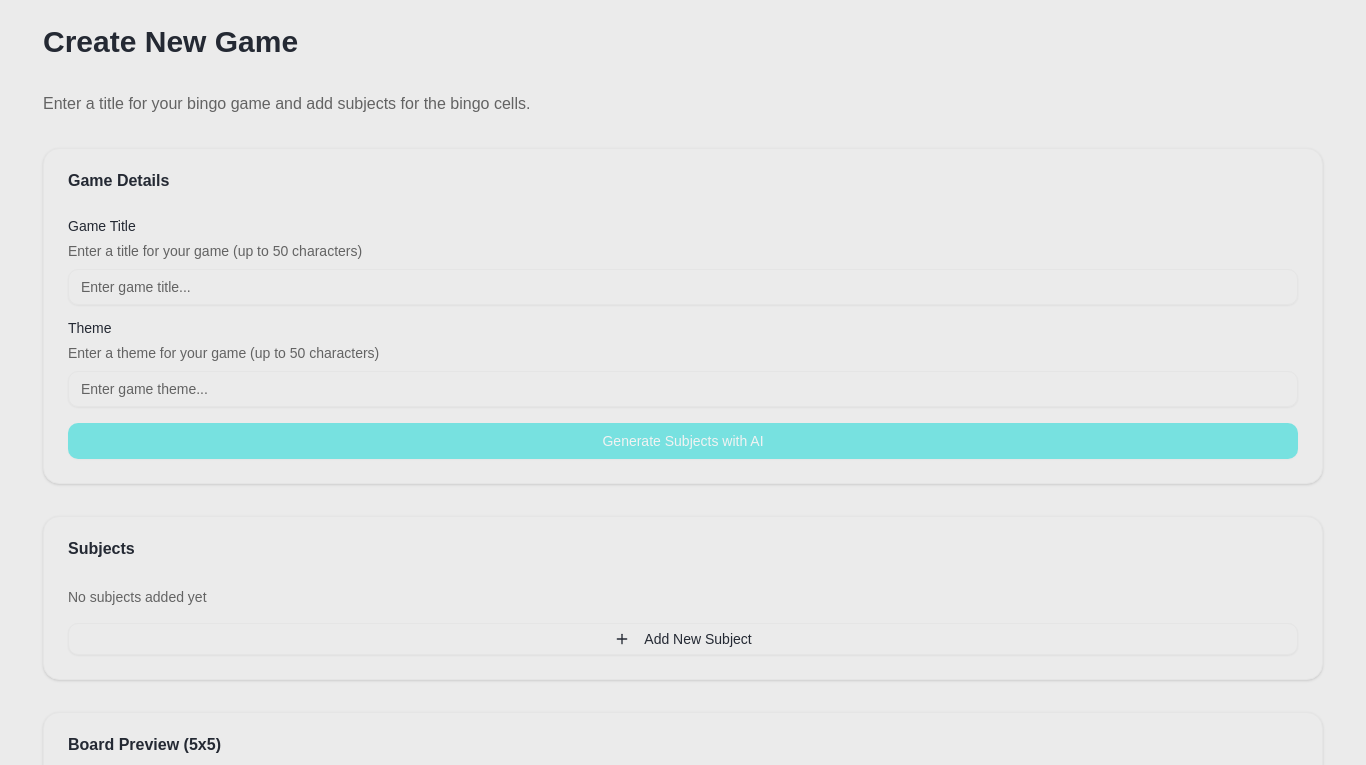
it: CreateGamePage › with English locale › validates title and theme on blur
This screenshot has width=1366, height=765.
Step 1. Type "This is a very long title that exceeds the maximum length of fifty characters" into the field labelled "Game Title" → (683,287), box [68,269,1298,305]
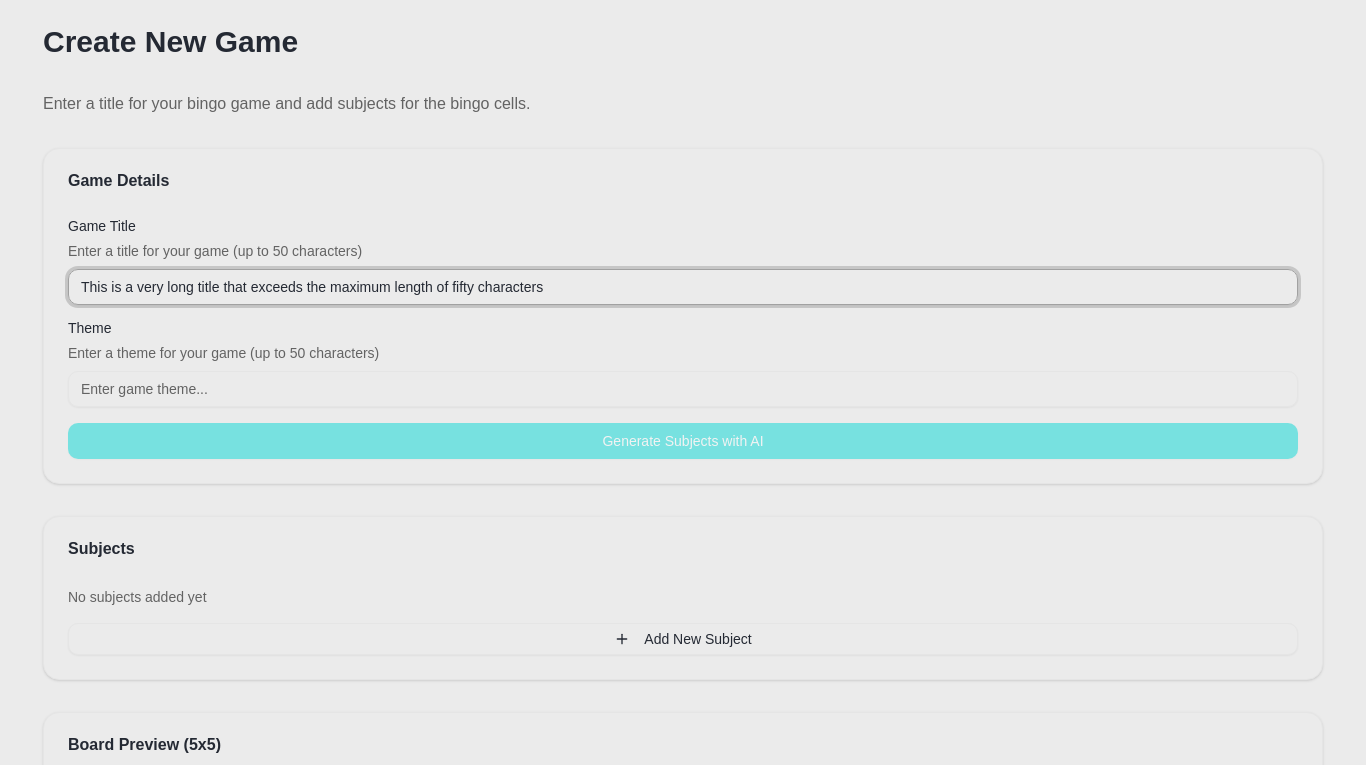
Step 2. Press Tab
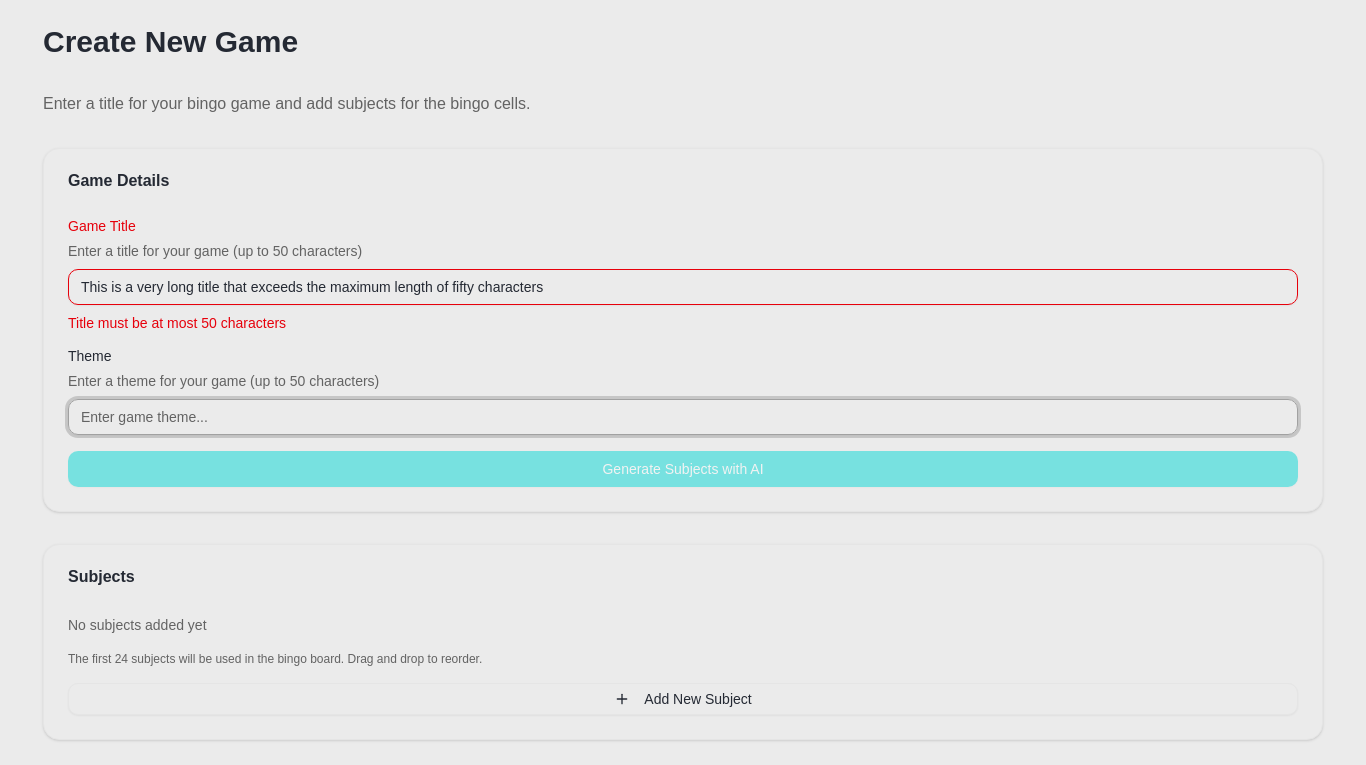
expect the text "Title must be at most 50 characters" is shown: met, box [68,315,286,331]
Step 3. Type "This is a very long theme that exceeds the maximum length of fifty characters" into the field labelled "Theme" → (683,417), box [68,399,1298,435]
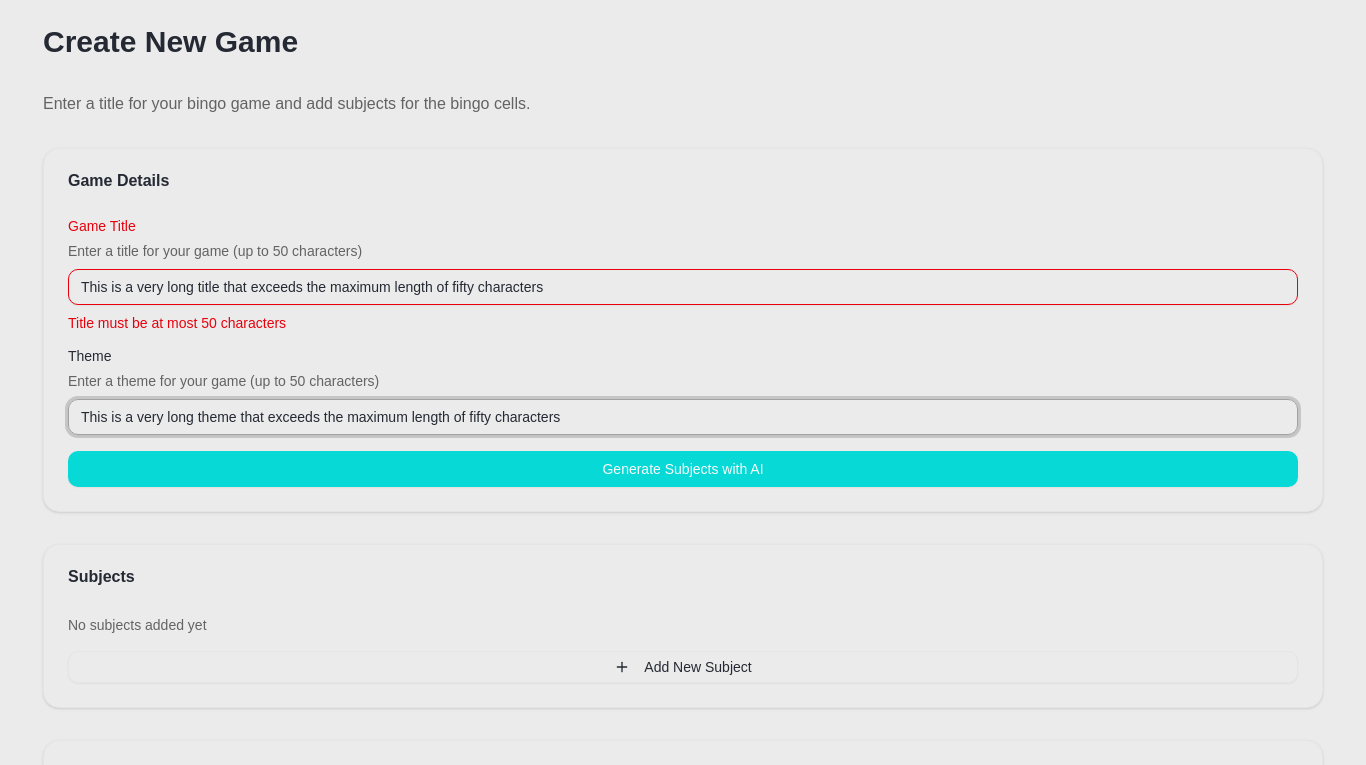
Step 4. Press Tab
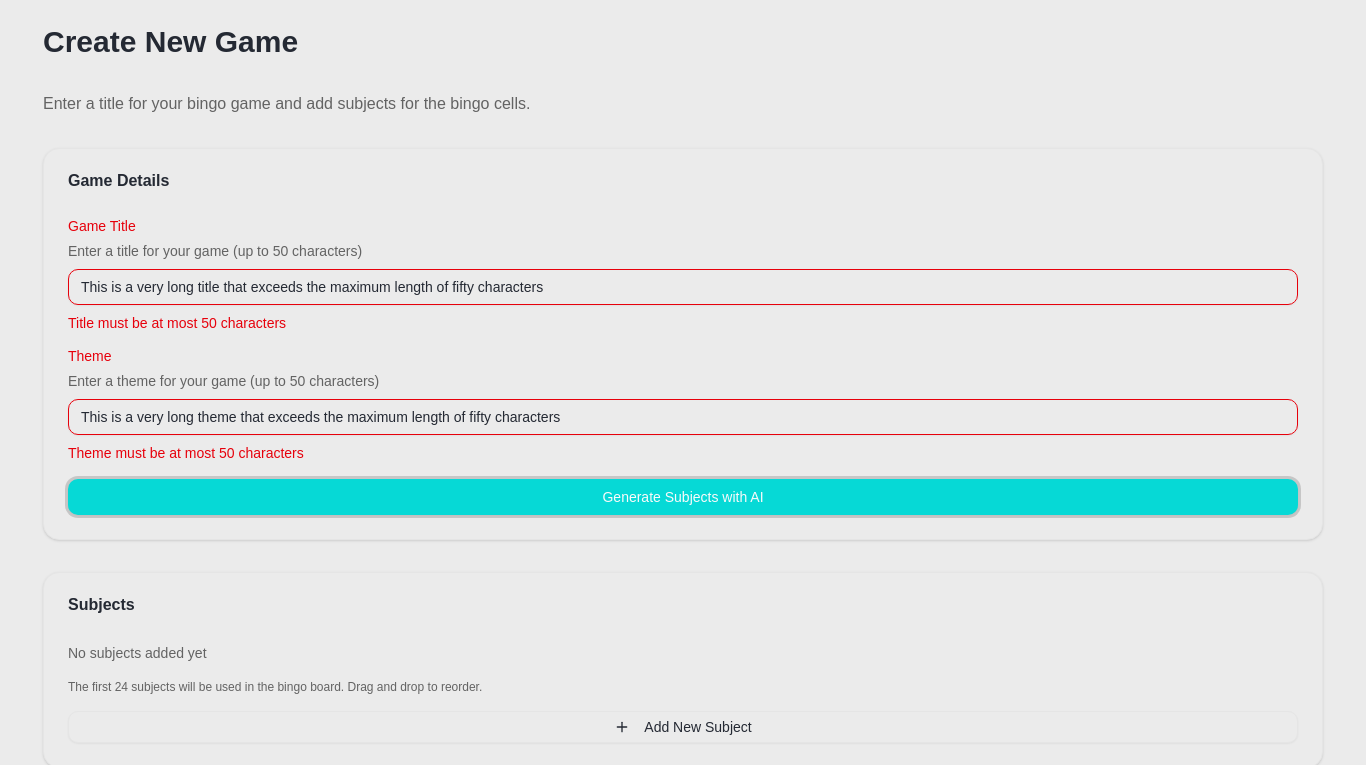
expect the text "Theme must be at most 50 characters" is shown: met, box [68,445,304,461]
